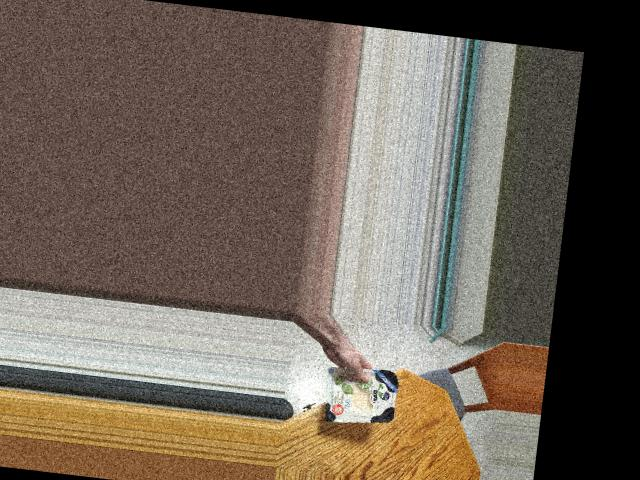cheese: (310, 364, 411, 430)
